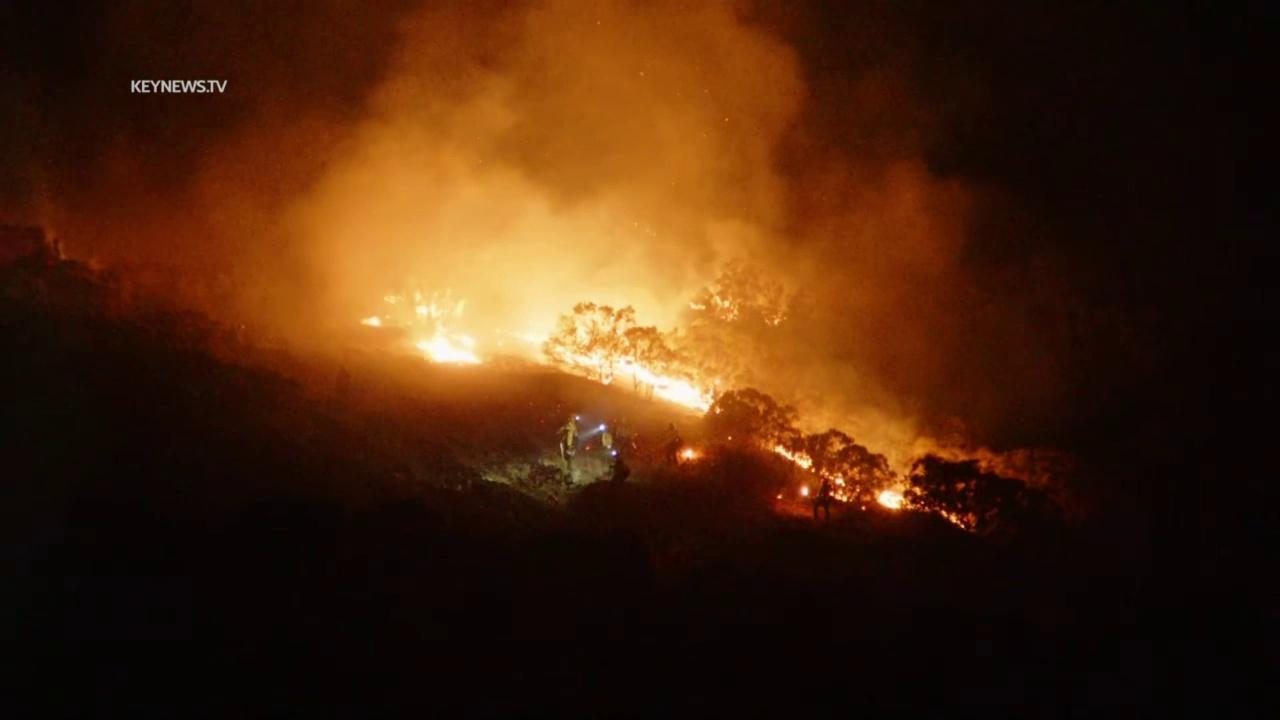fire: (502, 316, 723, 417), (412, 288, 485, 368), (818, 466, 856, 505), (936, 503, 978, 533), (774, 445, 816, 475), (874, 488, 918, 515), (711, 292, 741, 322), (358, 314, 384, 329), (380, 291, 407, 305), (679, 446, 700, 462), (799, 483, 811, 499), (776, 493, 784, 501)
smoke: (0, 0, 1109, 488)
